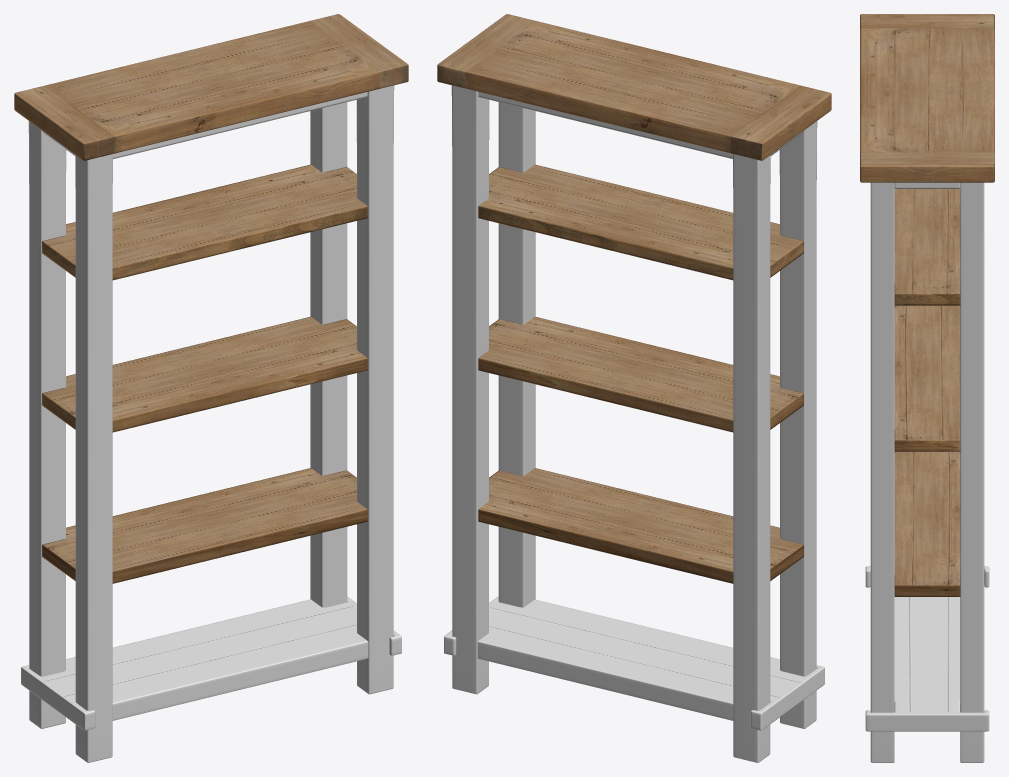
File: abo-B075ZF4S39.glb
3 views of the same model, side by side, from view 1: azimuth 30°, elevation 25°; view 2: azimuth 150°, elevation 25°; view 3: azimuth 270°, elevation 25° (orthographic). The views are drawn at different scales.
Size of the model in its own units: 1.02 by 1.88 by 0.381.
1 material, 1 textured.
